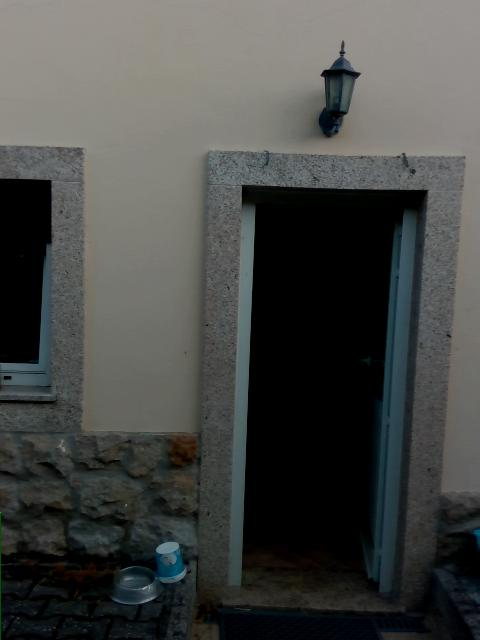open_door: (227, 186, 429, 603)
